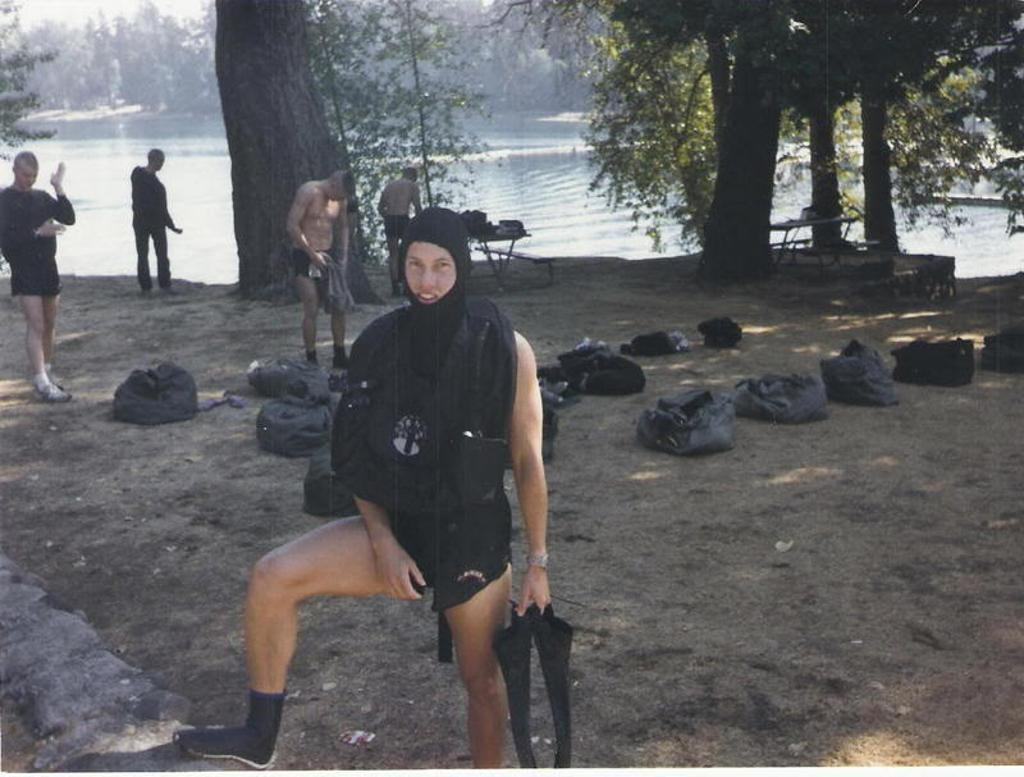face: (401, 237, 460, 312), (17, 166, 38, 189), (328, 186, 346, 201), (151, 154, 164, 170)
